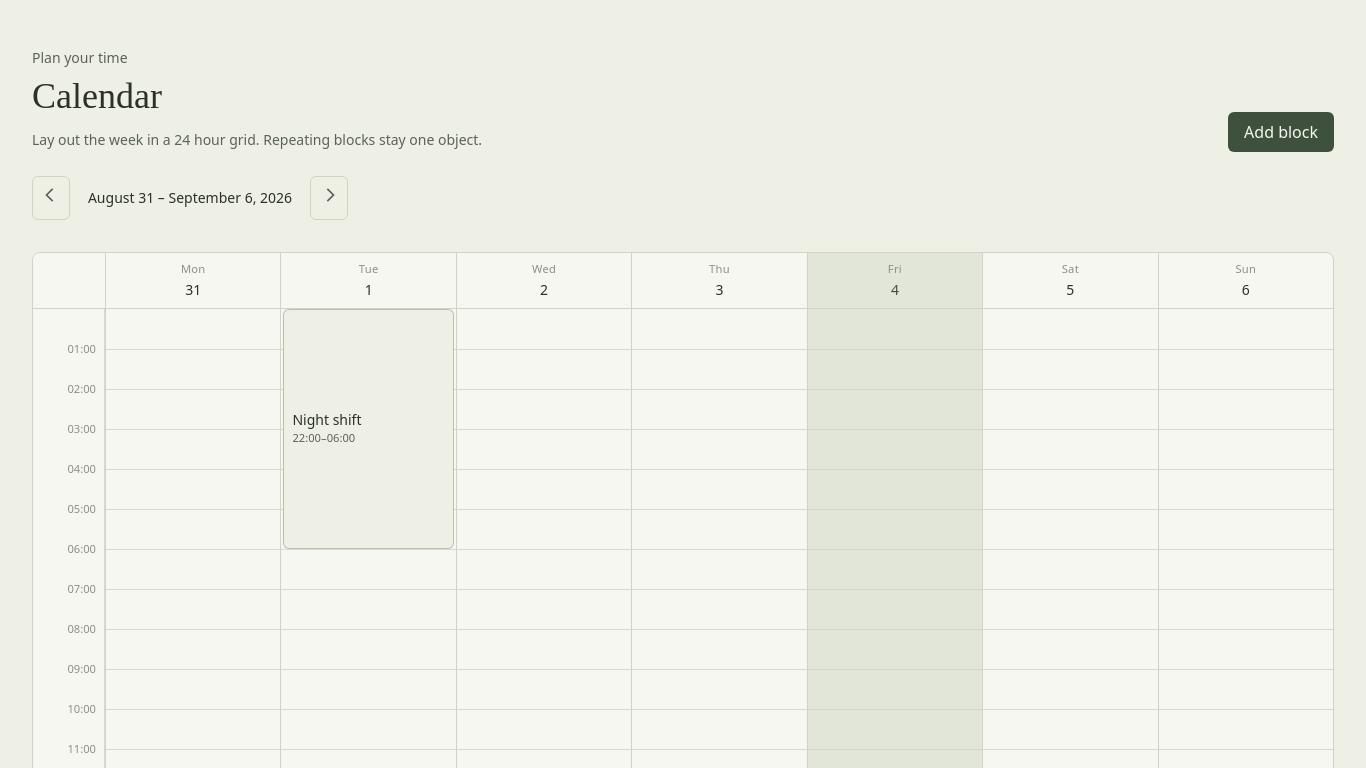
Test case: CalendarPage › renders an overnight block on both days and edits it from the continuation
Click the button "Night shift 22:00–06:00".
click(369, 429)  # box [283,309,454,549]
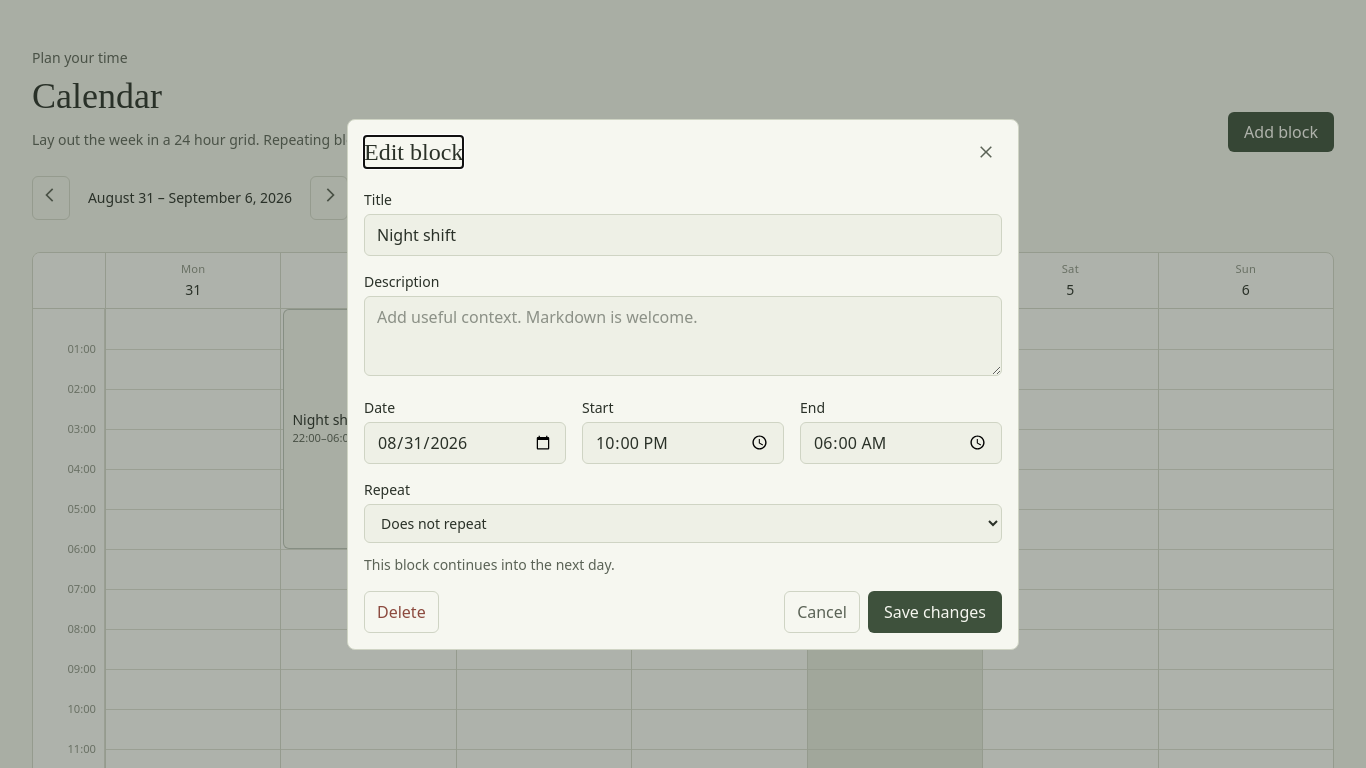
expect the dialog "Edit block" is shown: met, box [347,118,1019,650]
expect the field labelled "Title" holds "Night shift": met, box [364,214,1002,256]
expect the time field labelled "Start" holds "22:00": met, box [582,422,784,464]
